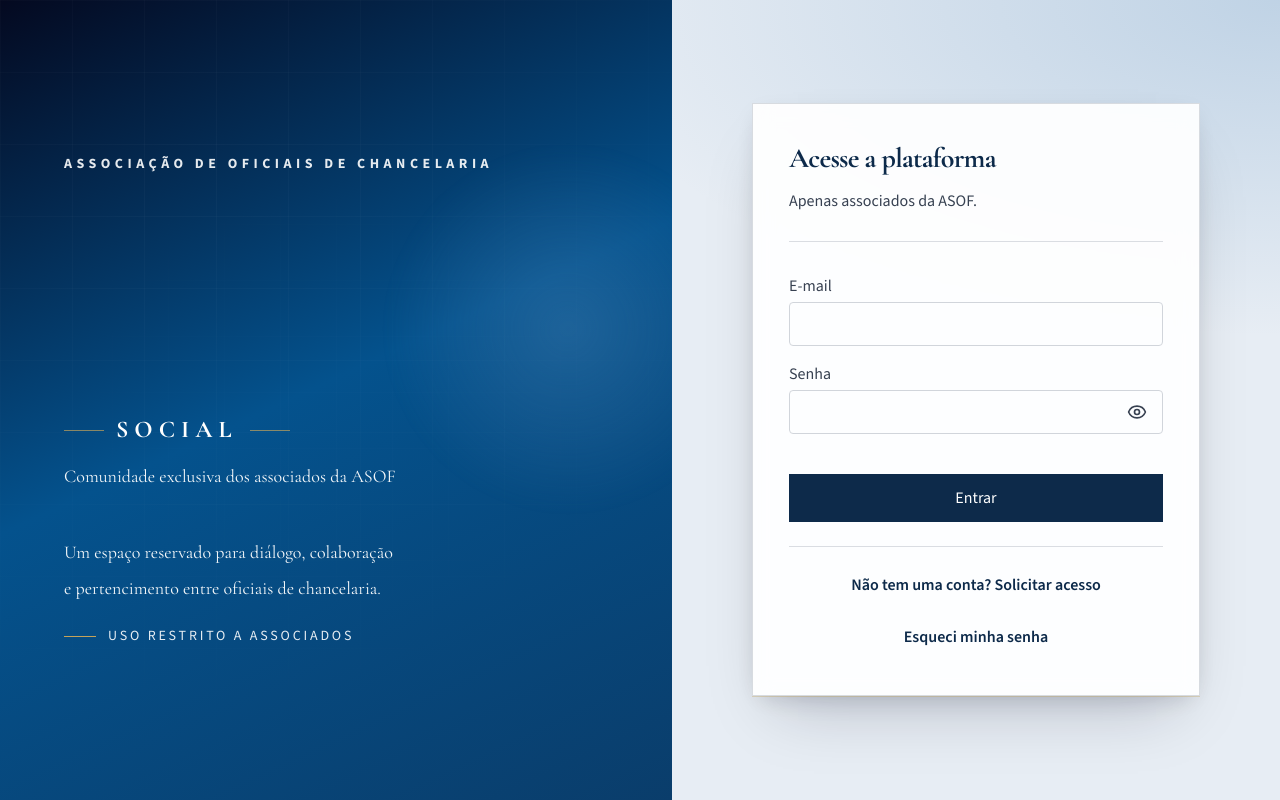
Test case: Login - password toggle › toggles password input from password to text type
Click the button named "mostrar senha": (1137, 413) [1115, 391, 1159, 435]
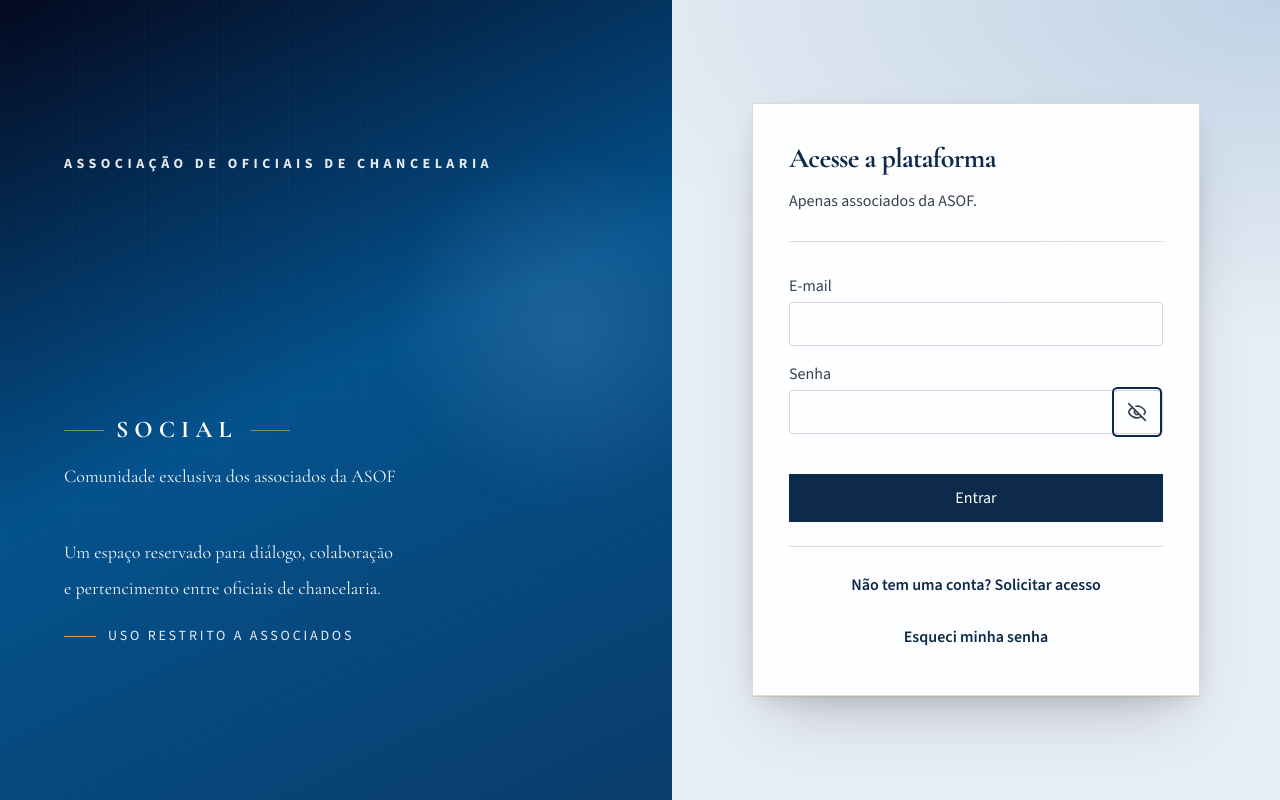
Expected: the button named "ocultar senha" is shown, [1115, 391, 1159, 435]
